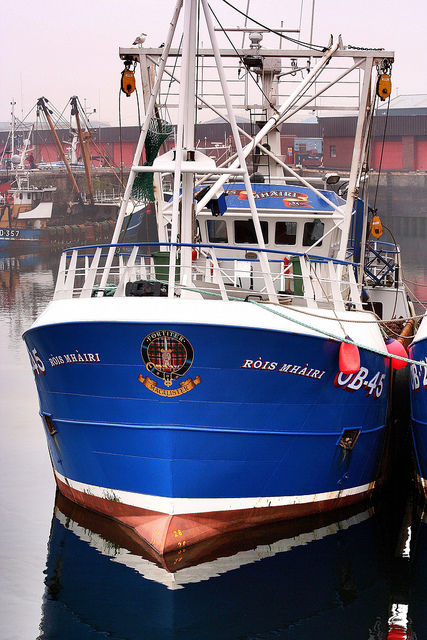fishing_boat: (19, 1, 399, 580)
